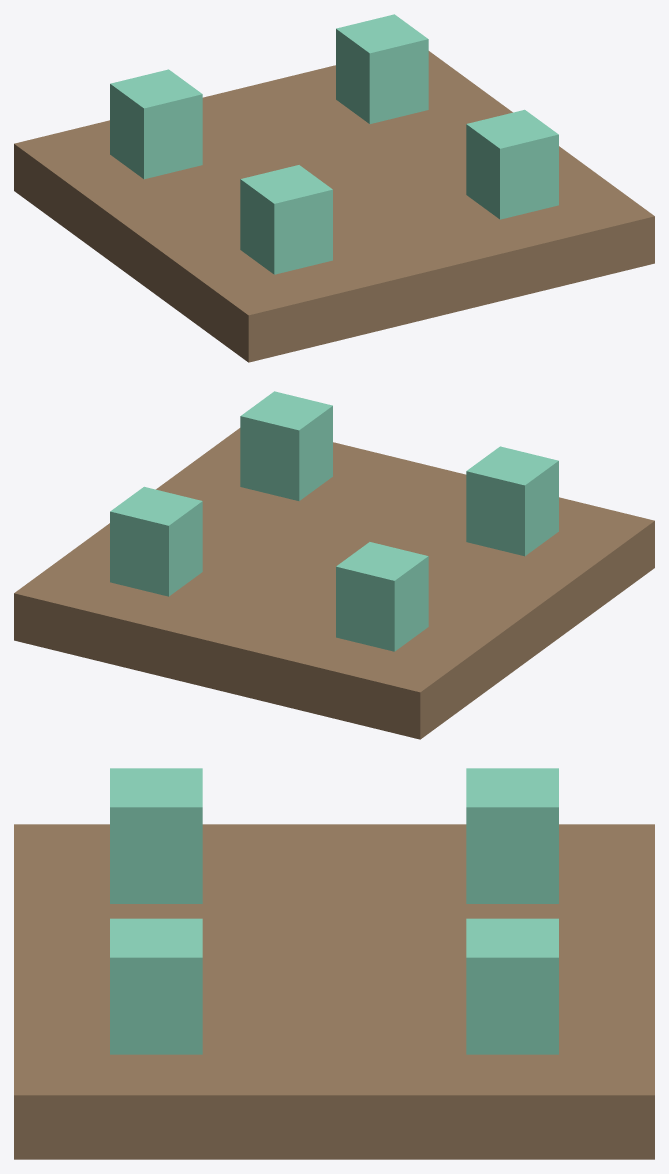
File: Prop_DS_Crop_Clover_S1_V2.glb
3 renders of one model, top to bottom at view 1: azimuth 30°, elevation 25°; view 2: azimuth 150°, elevation 25°; view 3: azimuth 270°, elevation 25°, orthographic. The views are drawn at different scales.
Parts seen in each view (by area): view 1: Prop_DS_Crop_Clover_S1_V2; view 2: Prop_DS_Crop_Clover_S1_V2; view 3: Prop_DS_Crop_Clover_S1_V2.
Part boxes in pixels (box(x1,y1,x2,y2)): Prop_DS_Crop_Clover_S1_V2: box(14, 14, 654, 362); Prop_DS_Crop_Clover_S1_V2: box(14, 391, 654, 739); Prop_DS_Crop_Clover_S1_V2: box(14, 768, 654, 1159).
Bounding box in the file's own units: 0.9 × 0.25 × 0.9.
